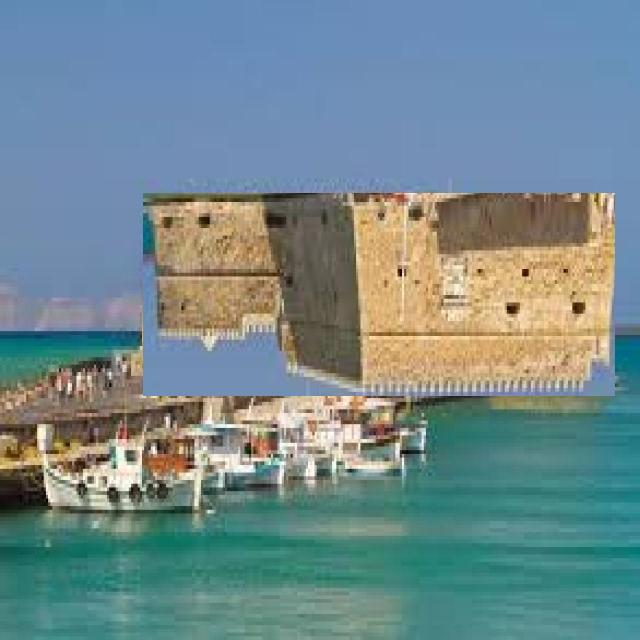Kules: (144, 194, 616, 397)
